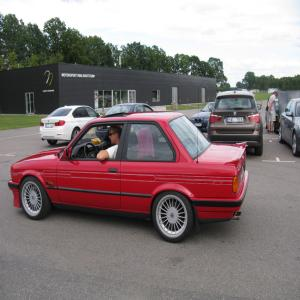Vehicle-registration-plate: (228, 118, 244, 124)
